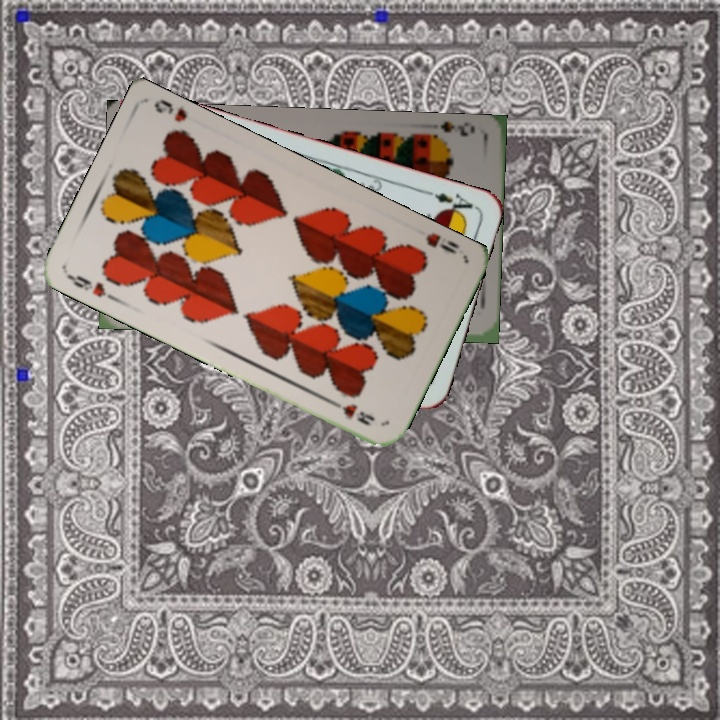EA: (419, 185, 476, 219)
H9: (64, 271, 119, 304), (422, 228, 462, 257)
S9: (421, 120, 477, 146)
